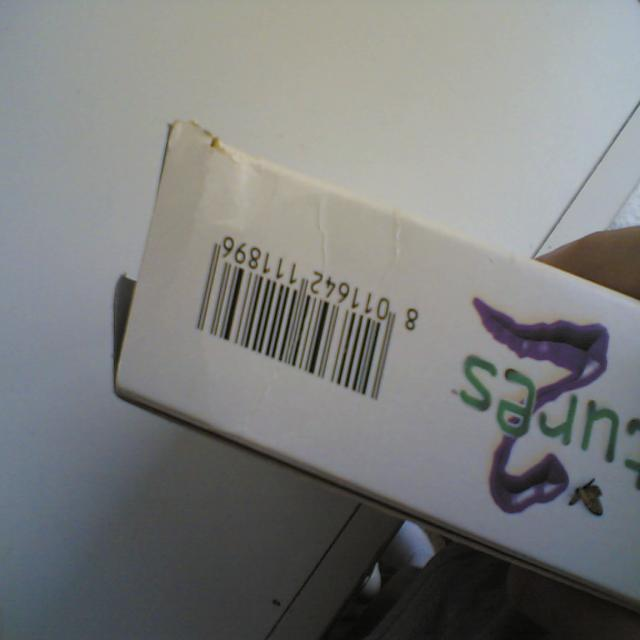barcode: (196, 237, 431, 402)
